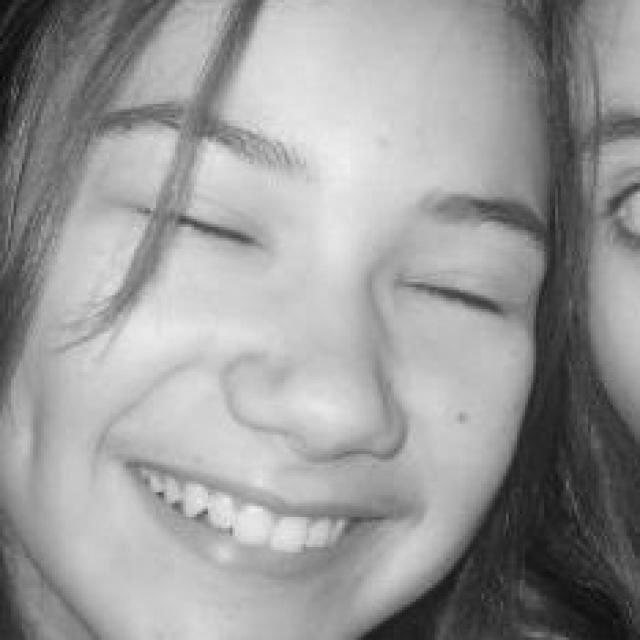real: (1, 3, 549, 640), (146, 163, 512, 338)
